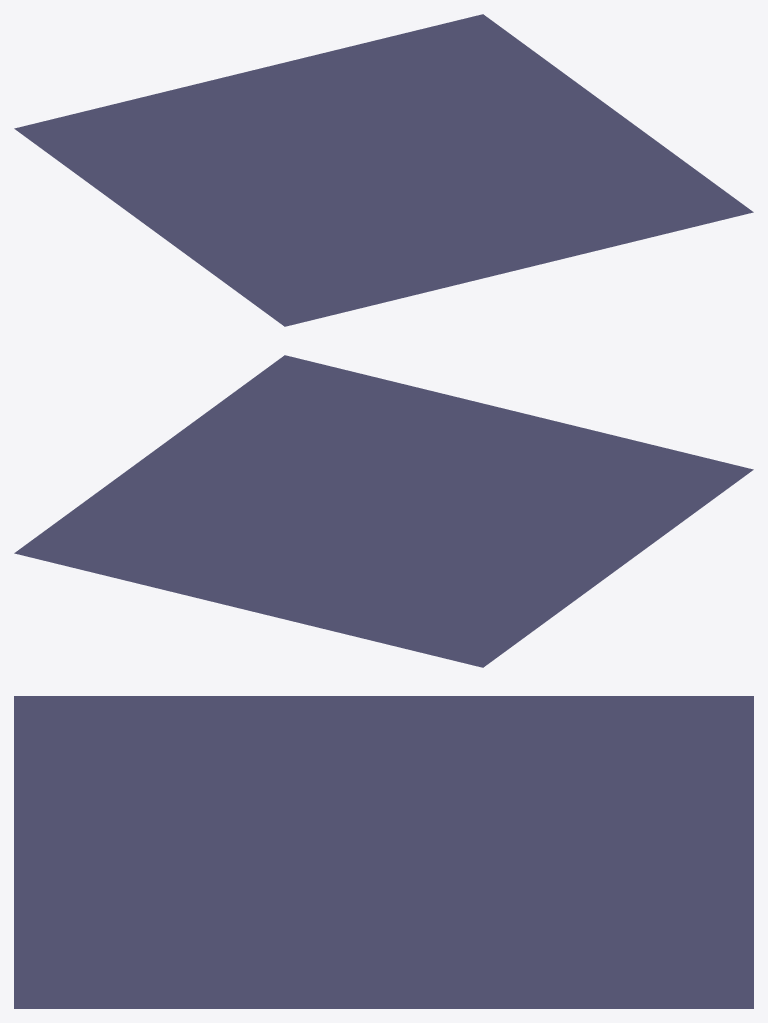
The model's file is sky_grid.glb.
3 views of the same model, one above another, from view 1: azimuth 30°, elevation 25°; view 2: azimuth 150°, elevation 25°; view 3: azimuth 270°, elevation 25° (orthographic). The views are drawn at different scales.
Visible parts, largest first — view 1: sky_grid; view 2: sky_grid; view 3: sky_grid.
Boxes of the visible parts, x1,y1,x2,y2 form: sky_grid: (14, 14, 753, 326); sky_grid: (14, 355, 753, 667); sky_grid: (14, 696, 753, 1008).
Bounding box in the file's own units: 200 × 0 × 200.
